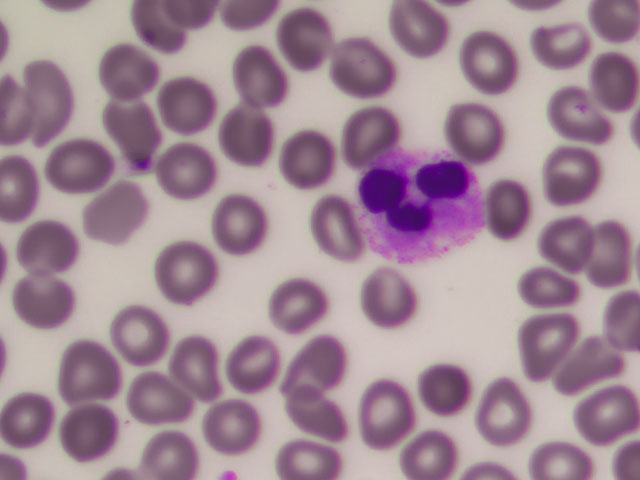RBC: (521, 418, 583, 480), (382, 418, 444, 480), (147, 418, 209, 480), (98, 40, 160, 101), (101, 100, 163, 161), (156, 73, 218, 134), (156, 131, 218, 192), (90, 180, 152, 241), (41, 139, 103, 200), (21, 71, 83, 132), (13, 214, 75, 275), (18, 272, 80, 333), (53, 342, 115, 403), (59, 405, 121, 466), (1, 396, 63, 457), (108, 309, 170, 370), (153, 243, 215, 304), (197, 200, 259, 261), (277, 130, 339, 191), (214, 105, 276, 166), (231, 48, 293, 109), (271, 7, 333, 68), (132, 1, 194, 62), (339, 43, 401, 104), (458, 29, 520, 90), (453, 102, 515, 163), (526, 23, 588, 84), (536, 90, 598, 151), (578, 46, 640, 107), (546, 146, 608, 207), (479, 181, 541, 242), (531, 213, 593, 274), (574, 228, 636, 289), (499, 259, 561, 320), (524, 312, 586, 373), (561, 335, 623, 396), (578, 380, 640, 441), (476, 375, 538, 436), (408, 350, 470, 411), (359, 371, 421, 432), (274, 380, 336, 441), (287, 329, 349, 390), (221, 326, 283, 387), (169, 329, 231, 390), (119, 368, 181, 429), (209, 395, 271, 456), (269, 282, 331, 343), (363, 272, 425, 333), (301, 198, 363, 259), (382, 1, 444, 61)
WBC: (357, 152, 484, 264)
